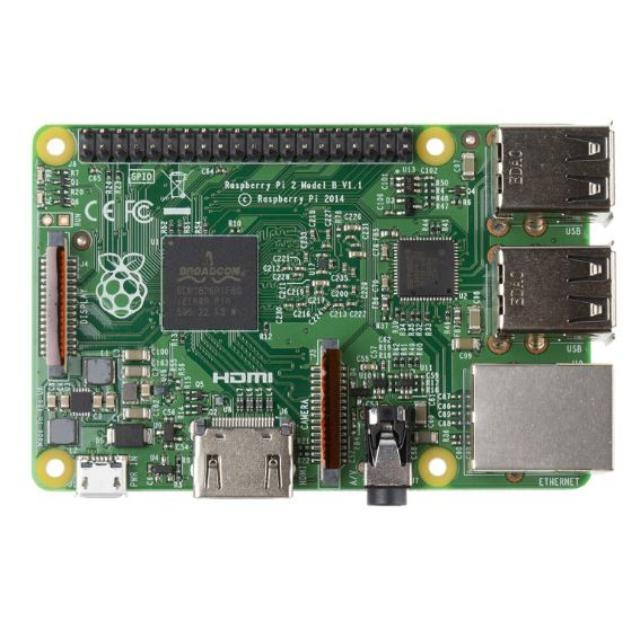Raspberry-Pi-2-B: (34, 126, 613, 506)
